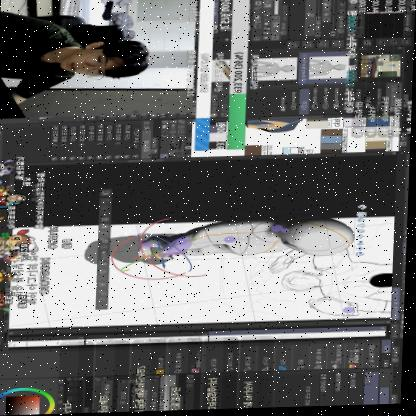streamer: (0, 7, 152, 107)
